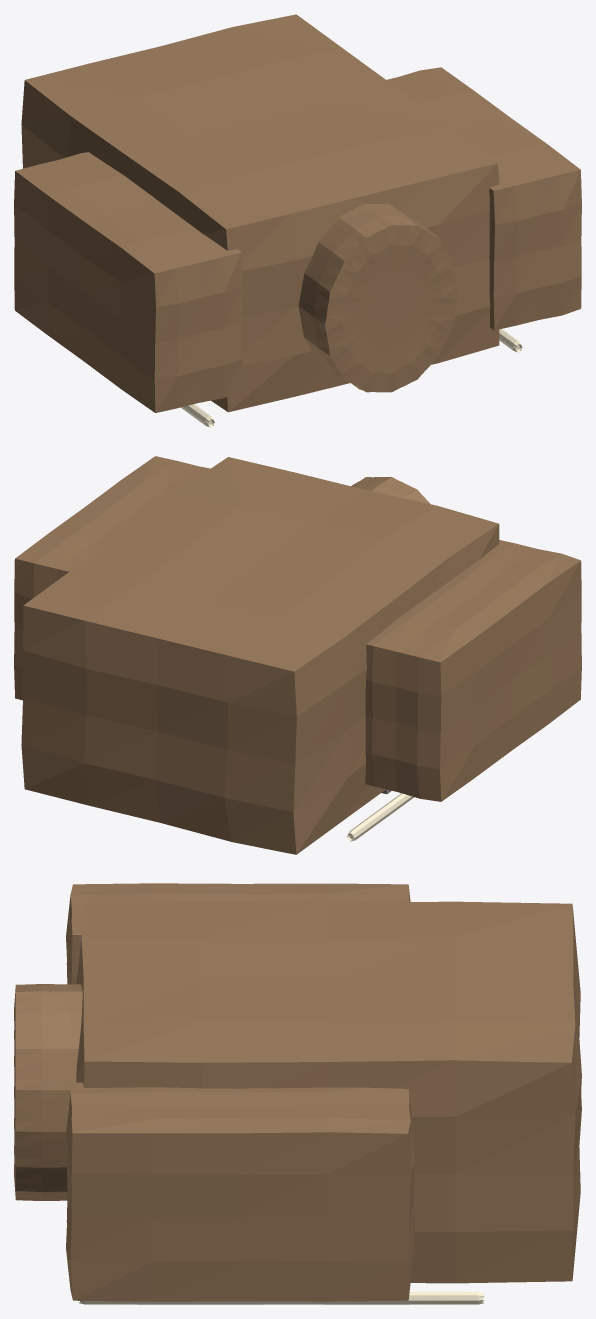
The model's file is chaleco-explorador.glb.
3 renders of one model, top to bottom at view 1: azimuth 30°, elevation 25°; view 2: azimuth 150°, elevation 25°; view 3: azimuth 270°, elevation 25°, orthographic. The views are drawn at different scales.
Parts seen in each view (by area): view 1: chaleco-explorador_00, chaleco-explorador_02, chaleco-explorador_01, chaleco-explorador_03; view 2: chaleco-explorador_00, chaleco-explorador_02, chaleco-explorador_03, chaleco-explorador_01, Detalle_01; view 3: chaleco-explorador_00, chaleco-explorador_03, chaleco-explorador_01, chaleco-explorador_02, Detalle_02.
Part boxes in pixels (bbox=[...]): chaleco-explorador_00: bbox=[21, 14, 499, 412]; chaleco-explorador_02: bbox=[14, 152, 242, 412]; chaleco-explorador_01: bbox=[298, 204, 458, 392]; chaleco-explorador_03: bbox=[386, 67, 581, 330]; chaleco-explorador_00: bbox=[21, 457, 499, 854]; chaleco-explorador_02: bbox=[365, 540, 581, 801]; chaleco-explorador_03: bbox=[14, 456, 210, 700]; chaleco-explorador_01: bbox=[351, 476, 430, 503]; Detalle_01: bbox=[347, 793, 414, 841]; chaleco-explorador_00: bbox=[76, 901, 581, 1283]; chaleco-explorador_03: bbox=[66, 1082, 414, 1301]; chaleco-explorador_01: bbox=[14, 984, 82, 1200]; chaleco-explorador_02: bbox=[66, 883, 410, 984]; Detalle_02: bbox=[79, 1291, 484, 1304].
Size of the model in its own units: 1.17 by 0.5407 by 1.12.
